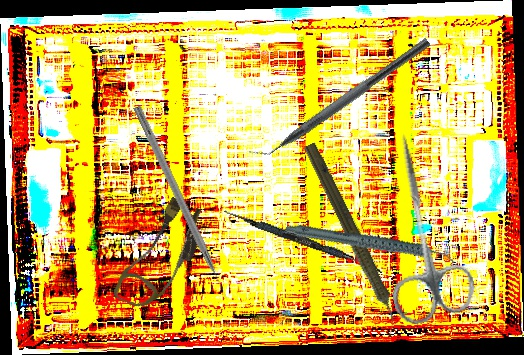Cannula: (111, 190, 212, 320)
Chopper: (246, 25, 432, 170)
Handpiece: (296, 140, 409, 338), (284, 191, 456, 299)
Hook Surgical: (131, 104, 232, 303)
Iris Scissors: (360, 126, 480, 328)
Spatula Surgical: (221, 208, 386, 274)
